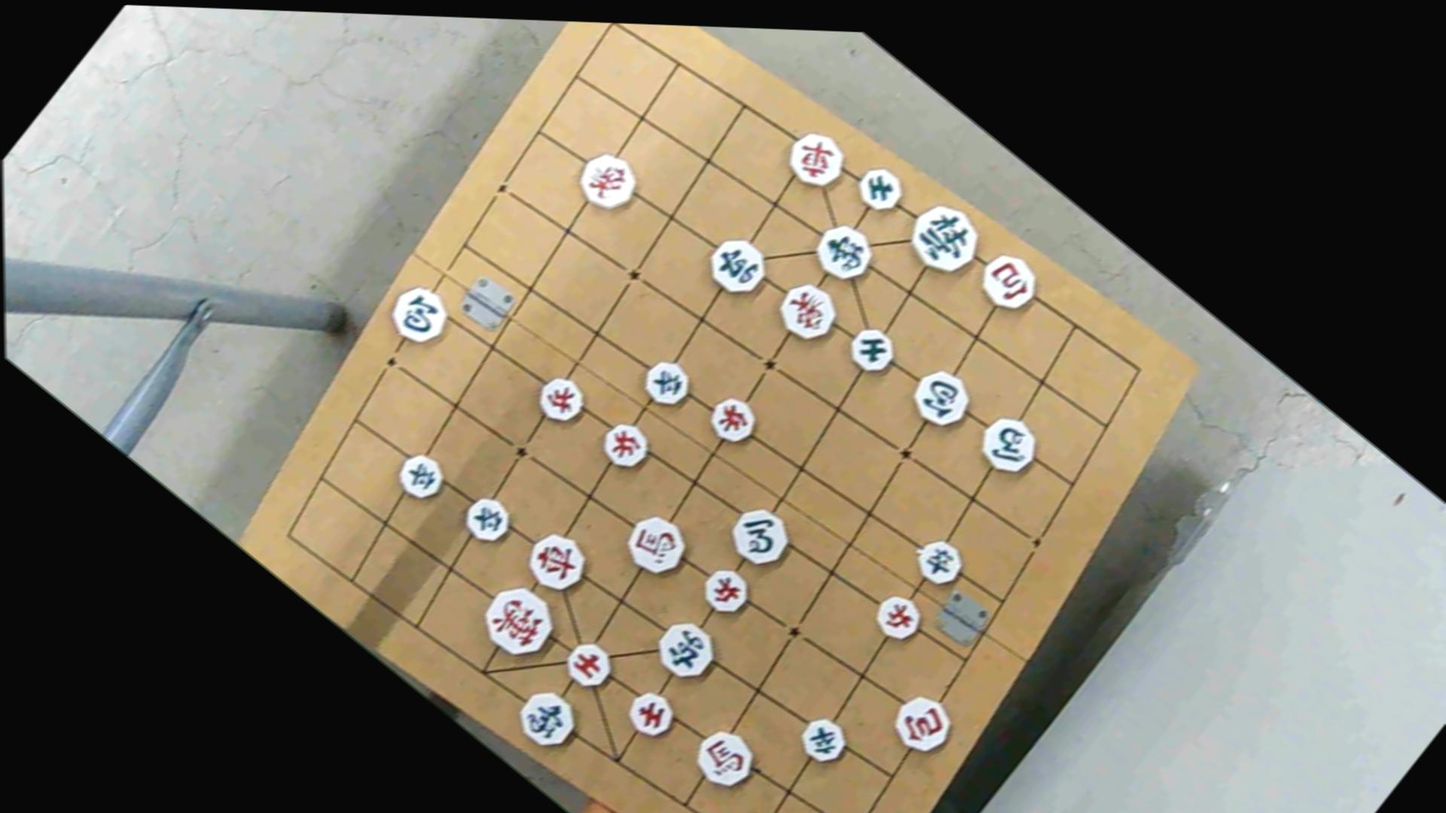cha_green: (646, 609, 724, 687), (697, 227, 775, 305)
cha_red: (515, 522, 595, 601), (775, 122, 851, 197)
jol_green: (633, 349, 697, 413), (456, 489, 519, 553), (908, 529, 970, 591), (389, 446, 452, 507), (792, 708, 854, 769)
jol_red: (528, 364, 594, 430), (700, 387, 764, 451), (865, 585, 929, 648), (694, 559, 755, 621), (595, 413, 656, 473)
ma_green: (721, 498, 798, 573), (973, 409, 1045, 480)
ma_red: (618, 506, 695, 584), (688, 721, 762, 795)
po_green: (379, 273, 459, 355), (903, 361, 979, 436)
po_red: (882, 684, 962, 763), (969, 243, 1046, 319)
sa_green: (850, 159, 910, 218), (843, 318, 902, 378)
sa_red: (620, 683, 683, 745), (556, 634, 618, 696)
sang_green: (505, 678, 587, 759), (806, 215, 883, 291)
sang_red: (768, 273, 846, 351), (569, 142, 645, 218)
wang_green: (895, 190, 988, 283)
wang_red: (469, 574, 563, 668)
